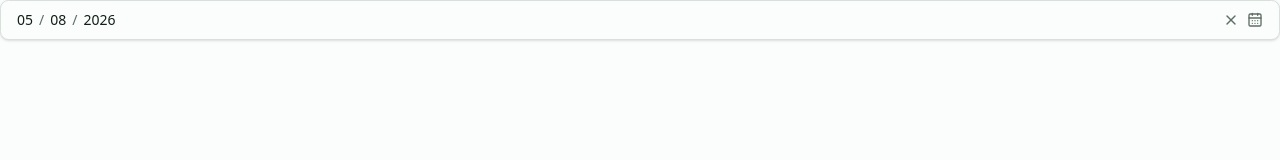
Test: DateField › clears to empty, which is a real edit
This screenshot has width=1280, height=160.
Click the button named "Clear the date" at (1231, 20), box x1=1219 y1=8 x2=1243 y2=32
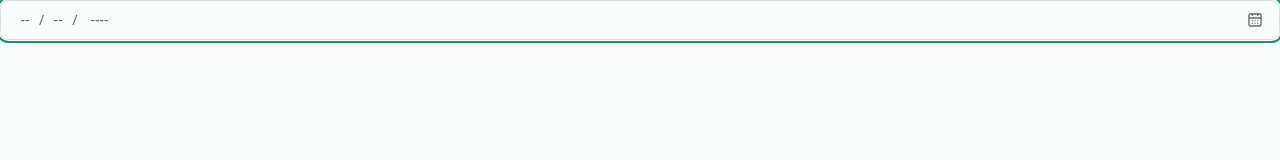
Now the field named "Day" is empty, box x1=13 y1=10 x2=37 y2=30
